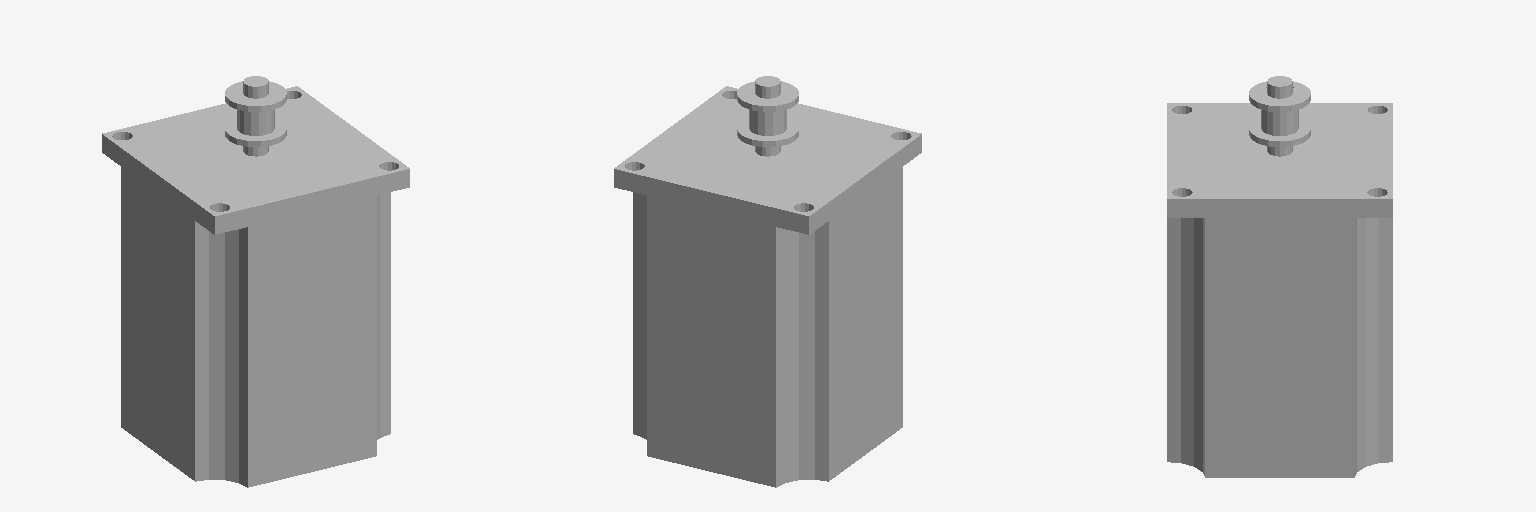
File: Zmotor.obj
3 renders of one model, left to right at view 1: azimuth 30°, elevation 25°; view 2: azimuth 150°, elevation 25°; view 3: azimuth 270°, elevation 25°, orthographic.
Parts seen in each view (by area): view 1: object_2, object_1; view 2: object_2, object_1; view 3: object_2, object_1.
Part boxes in pixels (left/top/right/bottom): object_2: left=102, top=76, right=409, bottom=487; object_1: left=225, top=81, right=286, bottom=146; object_2: left=614, top=76, right=921, bottom=487; object_1: left=737, top=81, right=798, bottom=146; object_2: left=1167, top=76, right=1392, bottom=477; object_1: left=1249, top=81, right=1310, bottom=146.
Size of the model in its own units: 2.2 by 3.75 by 2.2.